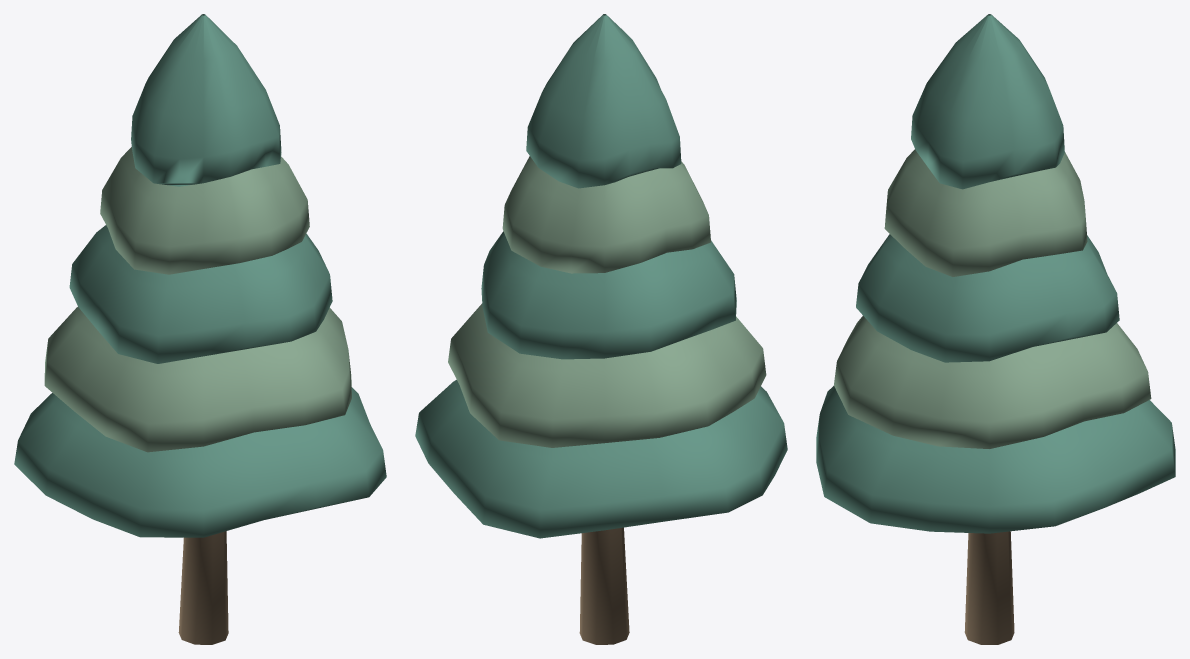
The model's file is SM_Pine_00_UV_0075.fbx.
3 renders of one model, left to right at view 1: azimuth 30°, elevation 25°; view 2: azimuth 150°, elevation 25°; view 3: azimuth 270°, elevation 25°, orthographic.
Visible parts, largest first — view 1: SM_Pine_00_UV_0075; view 2: SM_Pine_00_UV_0075; view 3: SM_Pine_00_UV_0075.
Boxes of the visible parts, left/top/right/bottom form: SM_Pine_00_UV_0075: left=14, top=14, right=386, bottom=644; SM_Pine_00_UV_0075: left=415, top=14, right=787, bottom=644; SM_Pine_00_UV_0075: left=816, top=14, right=1175, bottom=644.
Bounding box in the file's own units: 400 × 394 × 751.
